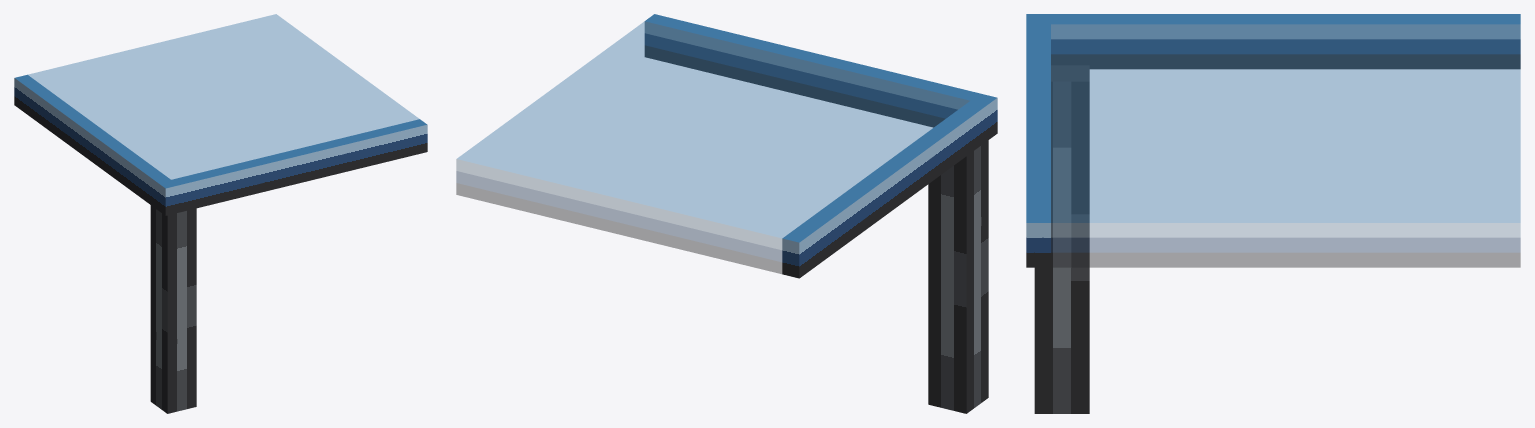
Rendered from glass_table_corner_1leg.glb.
The picture shows the model from 3 angles, left to right: view 1: azimuth 30°, elevation 25°; view 2: azimuth 150°, elevation 25°; view 3: azimuth 270°, elevation 25°; orthographic projection. The views are drawn at different scales.
Parts seen in each view (by area): view 1: glass_table_corner_1leg; view 2: glass_table_corner_1leg; view 3: glass_table_corner_1leg.
Boxes of the visible parts, x1,y1,x2,y2 form: glass_table_corner_1leg: (14, 14, 427, 413); glass_table_corner_1leg: (456, 14, 997, 413); glass_table_corner_1leg: (1026, 14, 1520, 413).
Size of the model in its own units: 0.9 by 0.75 by 0.9.
2 materials, 2 textured.
